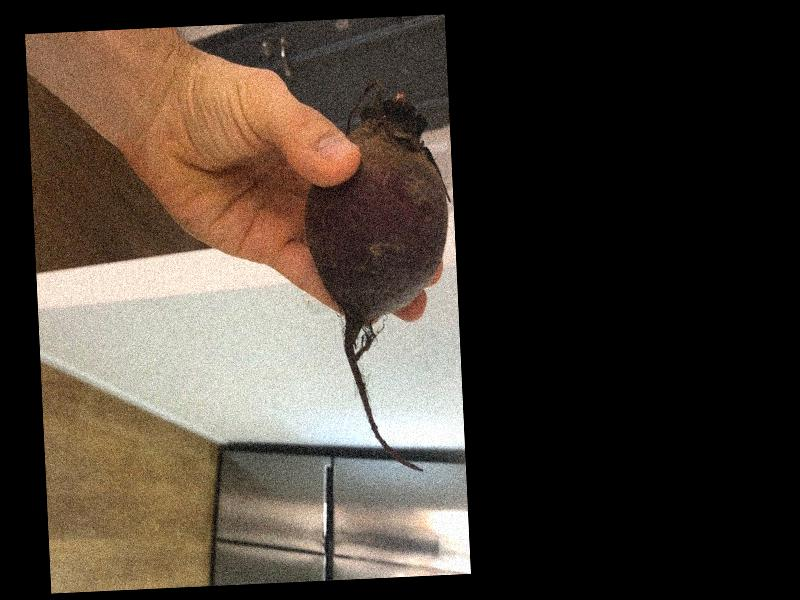Beet: (301, 76, 462, 475)
